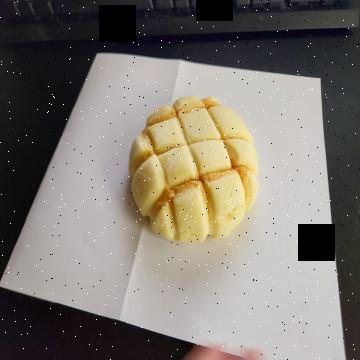melon_bread: (126, 94, 259, 244)
